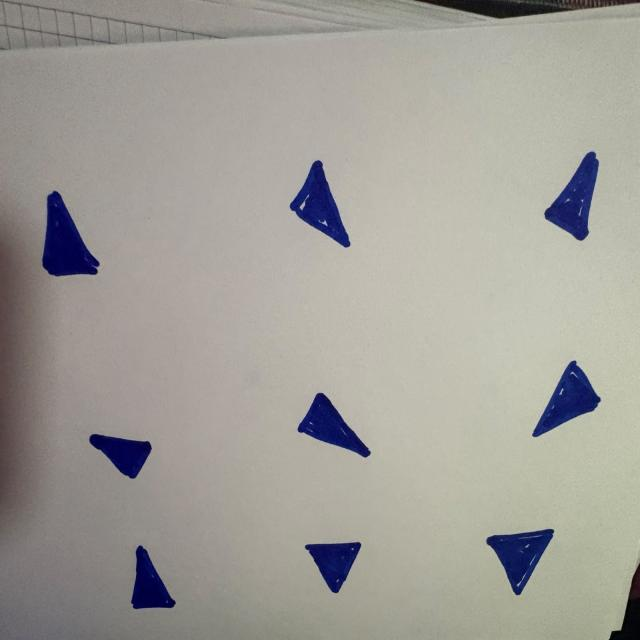Triangle: (532, 361, 601, 437), (290, 161, 350, 246), (42, 191, 99, 276), (545, 151, 598, 241), (298, 393, 370, 457), (486, 529, 554, 595), (305, 541, 361, 593), (89, 433, 152, 479), (131, 546, 175, 609)
